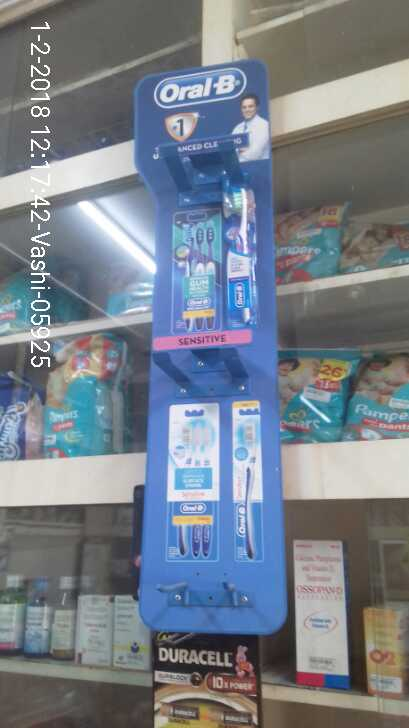pharmacy: (43, 330, 123, 458), (275, 346, 358, 443), (220, 185, 270, 325), (277, 205, 343, 281), (364, 355, 409, 440)
